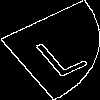L: (24, 24, 90, 79)
